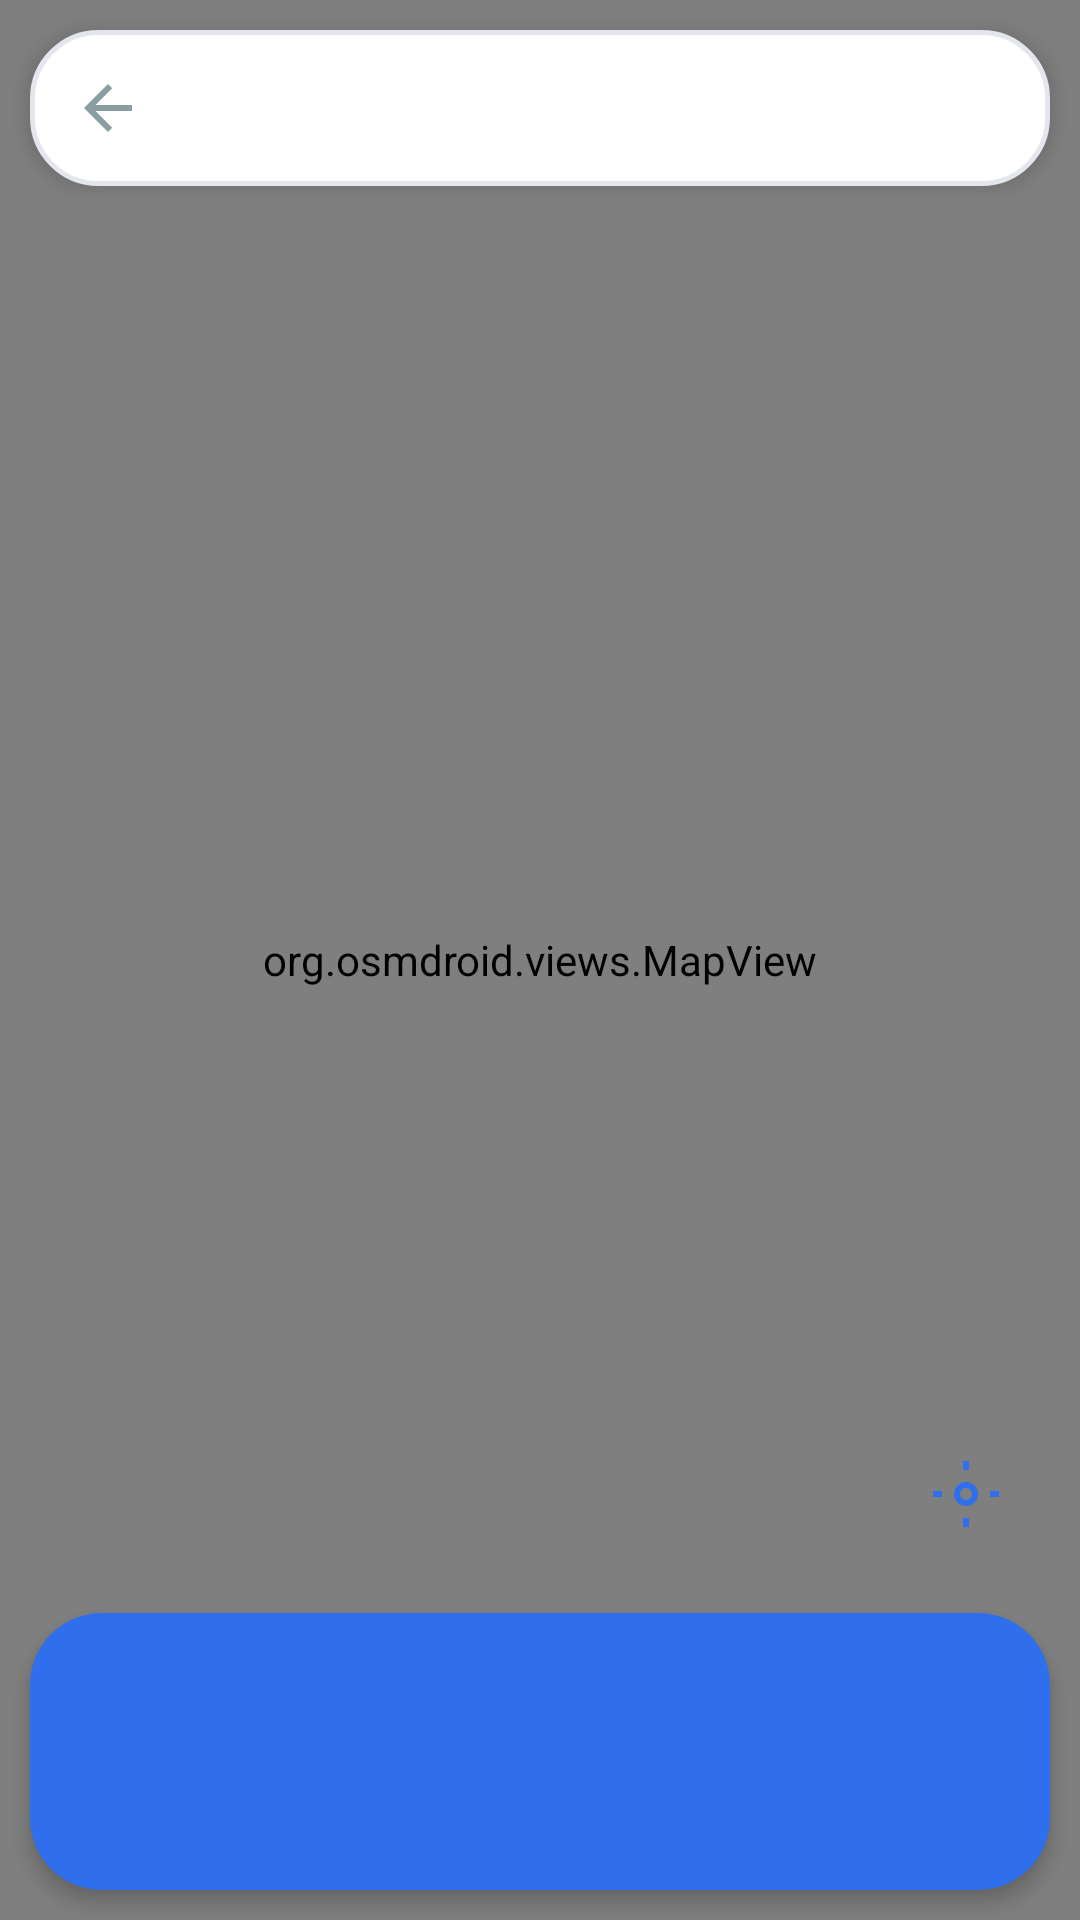

Screen size 1080px x 1920px. Icon name, then its box in pixels as (x1, y1, x2, y2):
Back: (84, 84, 132, 132)
Recenter: (933, 1461, 999, 1527)
